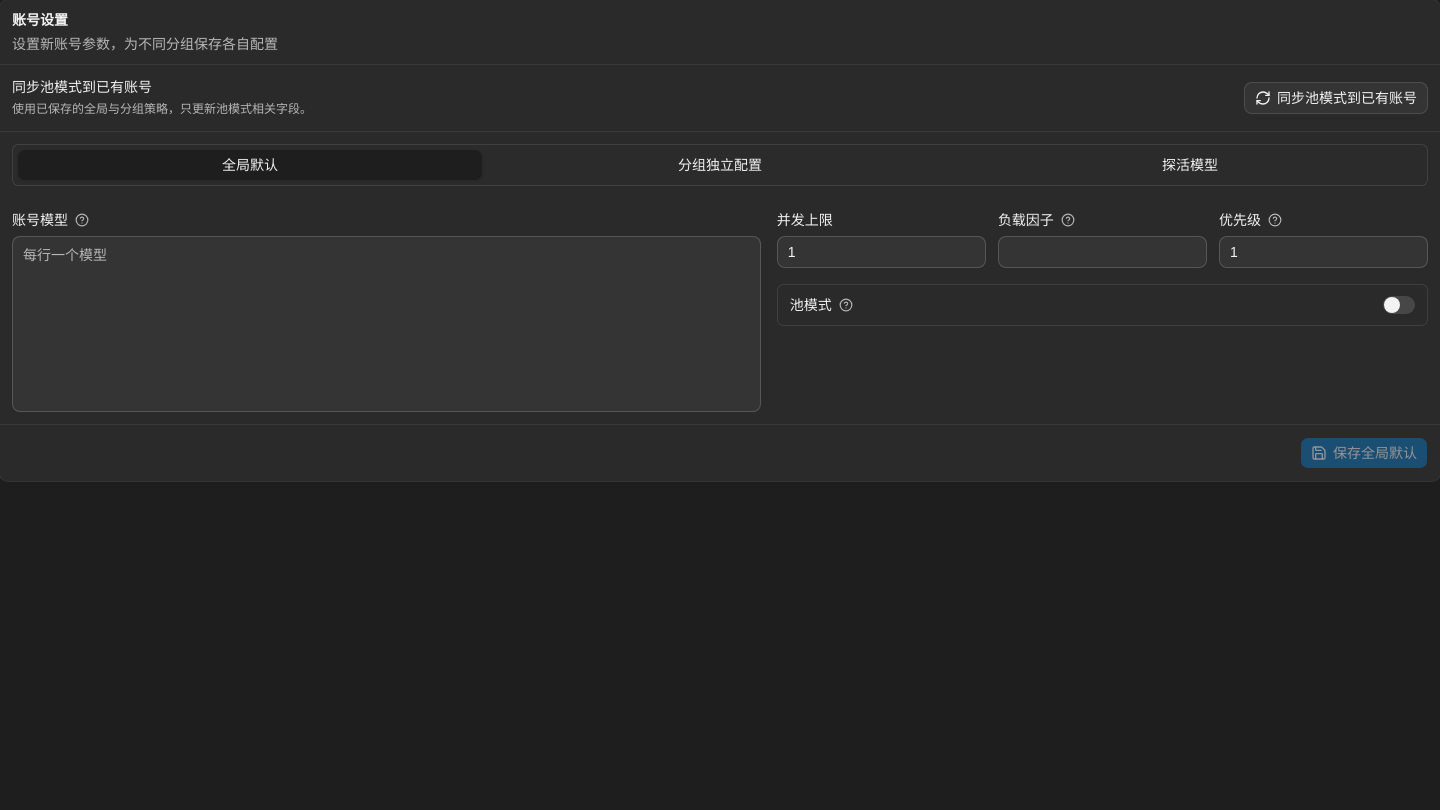
Scenario: 池模式同步提交后离开设置时取消状态读取，保留后台任务且不回填迟到结果
Click the button "同步池模式到已有账号" at (1336, 98), box [1244, 82, 1428, 114]
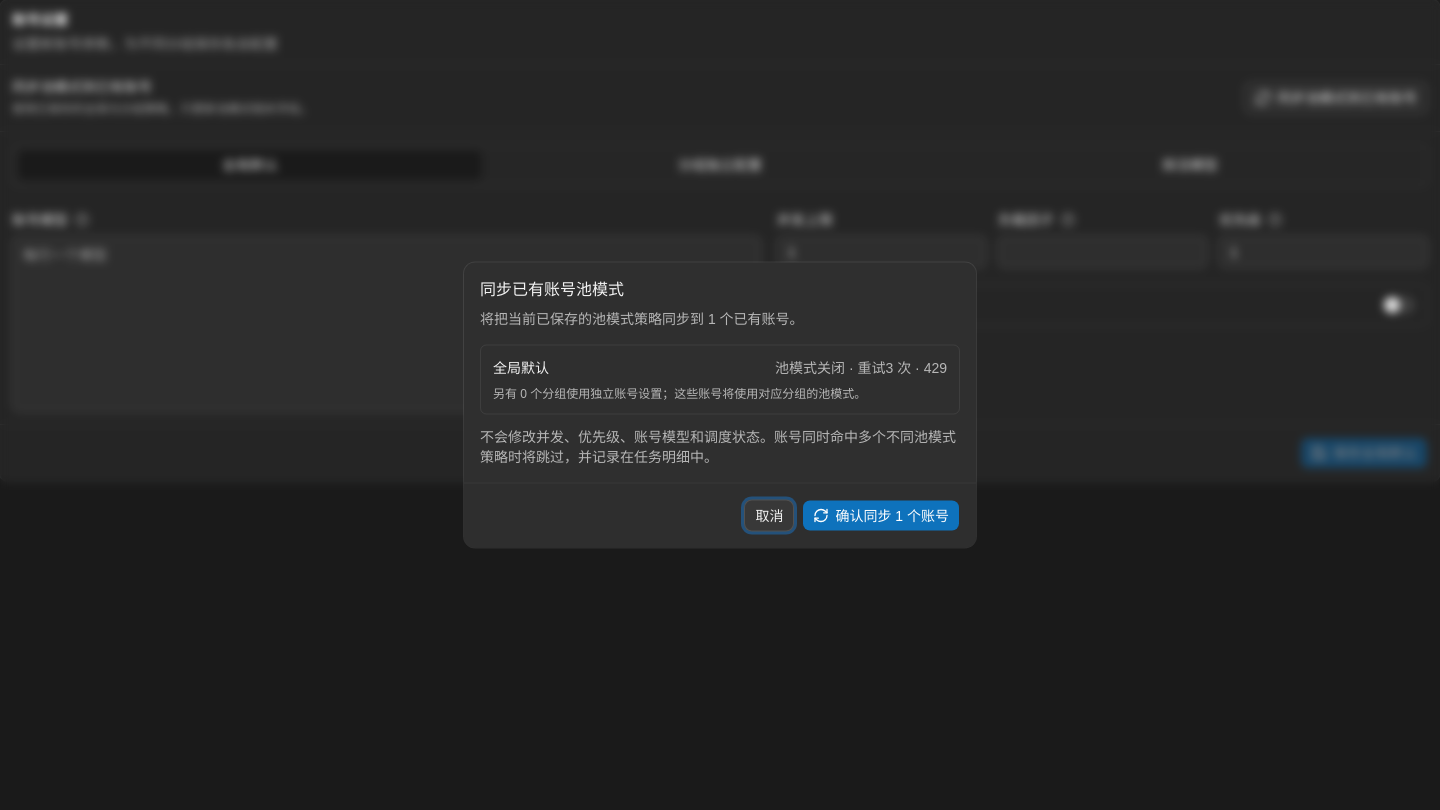
Click the button "确认同步 1 个账号" at (881, 516), box [802, 500, 960, 532]
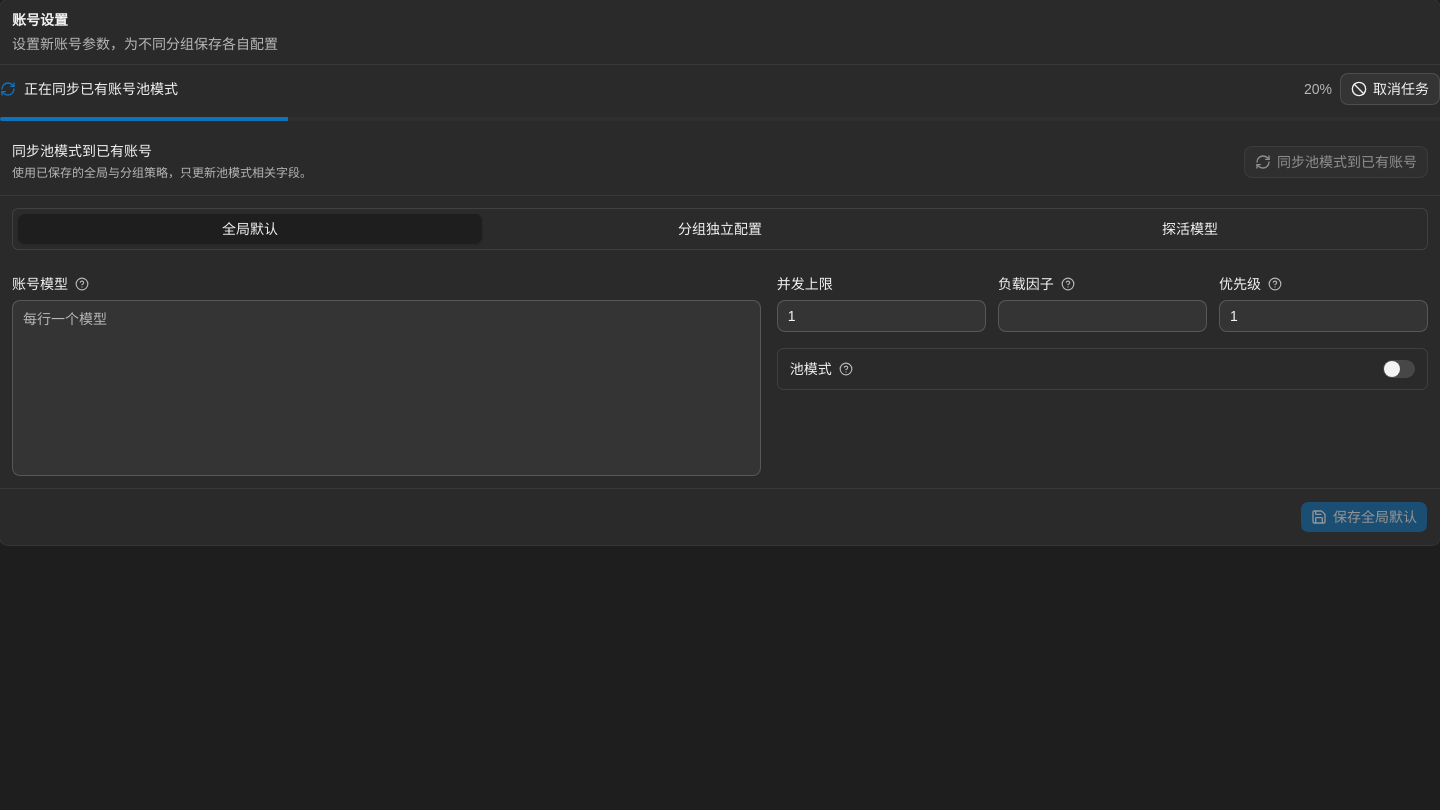
Result: the message "正在同步已有账号池模式" is shown at [0, 65, 1439, 129]
